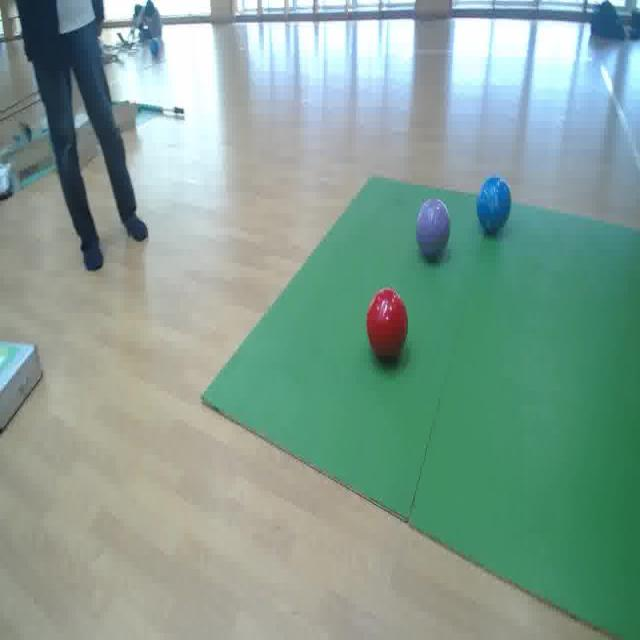blue_ball: (478, 174, 511, 235)
purple_ball: (417, 196, 451, 262)
red_ball: (368, 286, 408, 361)
